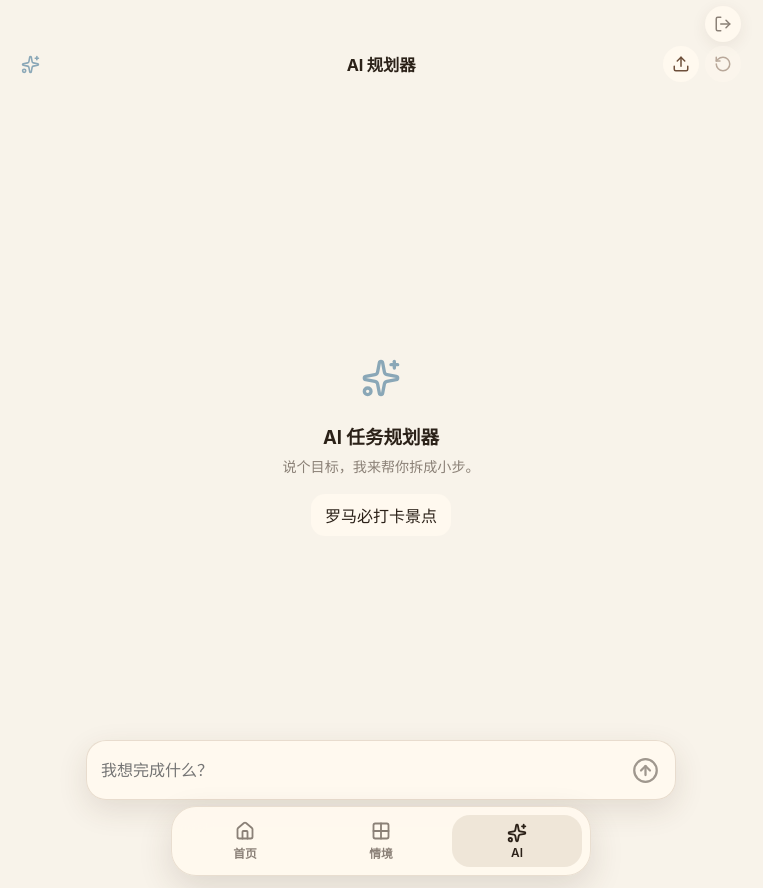
Scenario: AI planner page › accumulates deduplicated suggestions in one context and commits them together
The width and height of the screenshot is (763, 888).
Type "列证件" into the text box named "告诉 AI 你的目标" at (358, 770), box [101, 749, 616, 791]
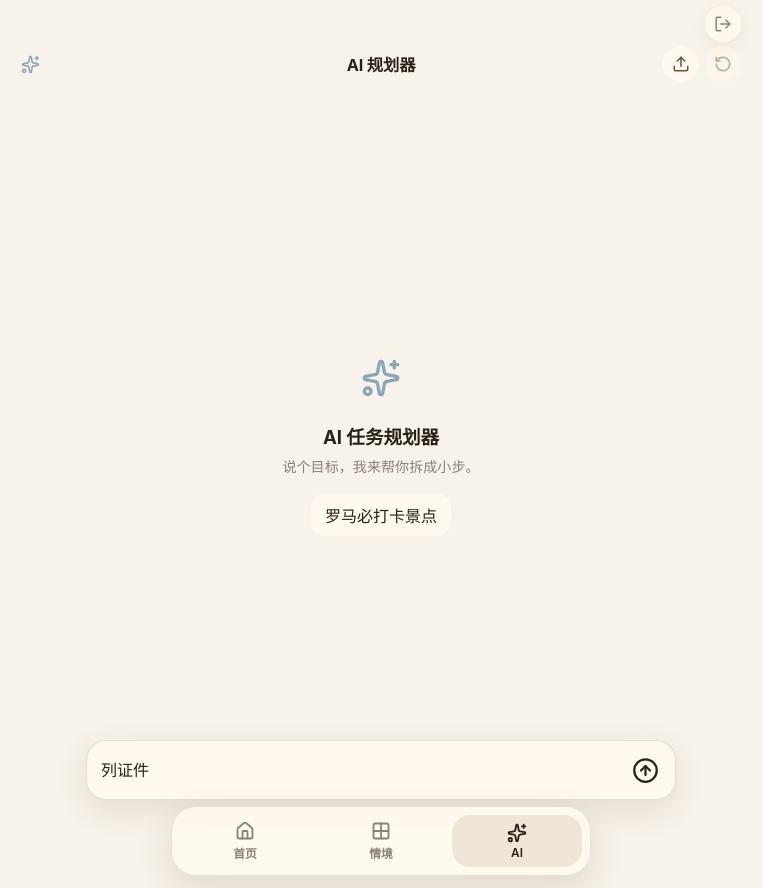
Click the button named "发送" at (645, 770), box [624, 749, 666, 791]
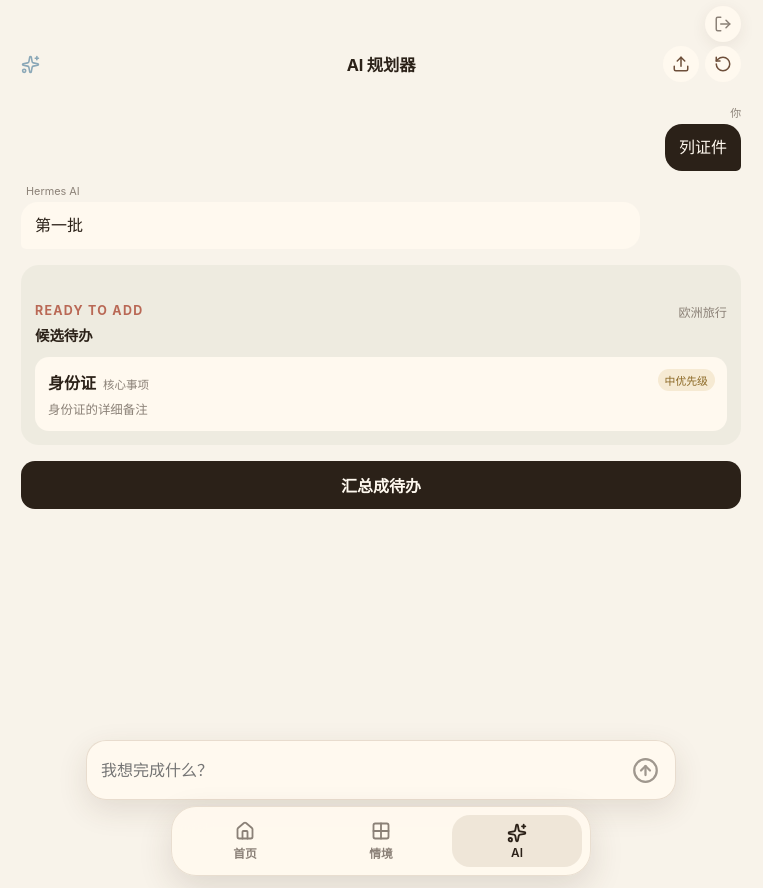
Expected: the text "第一批" is shown, [35, 215, 83, 235]
Type "再补充" into the text box named "告诉 AI 你的目标" at (358, 770), box [101, 749, 616, 791]
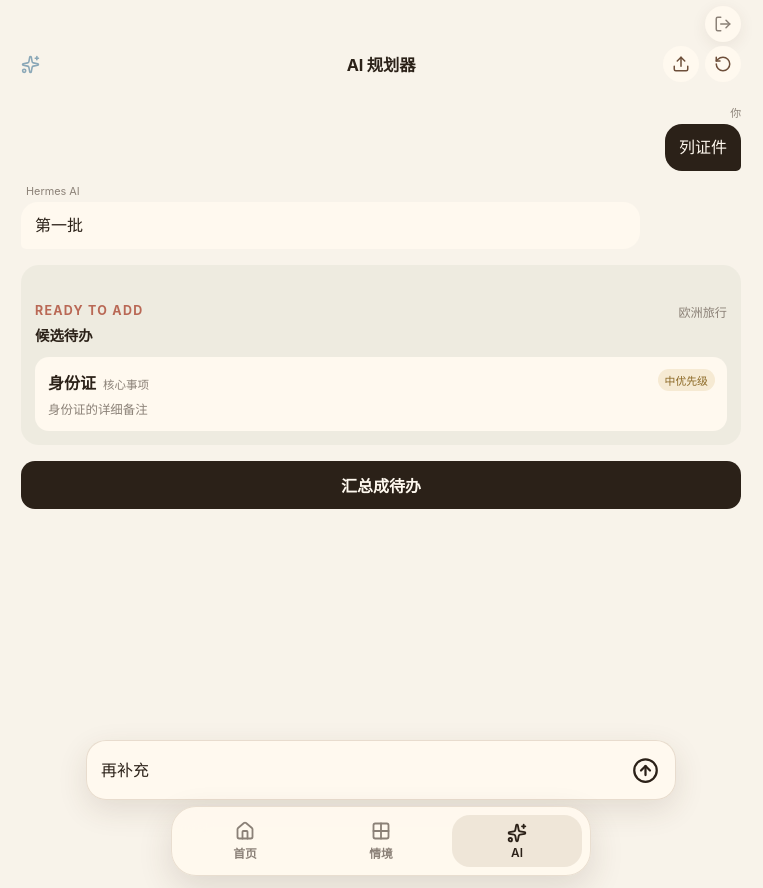
Click the button named "发送" at (645, 770), box [624, 749, 666, 791]
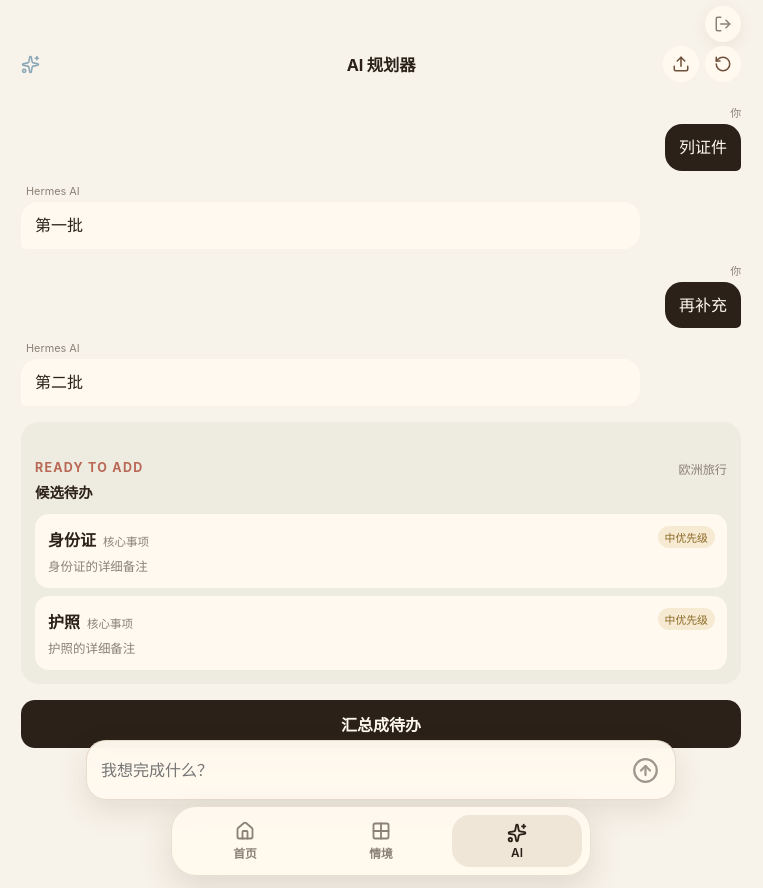
Expected: the text "第二批" is shown, [35, 372, 83, 392]
Expected: the number of list items with test id "ai-suggestion" is 2, [35, 514, 727, 588]; [35, 596, 727, 670]
Click the button "汇总成待办" at (381, 724), box [21, 700, 741, 748]
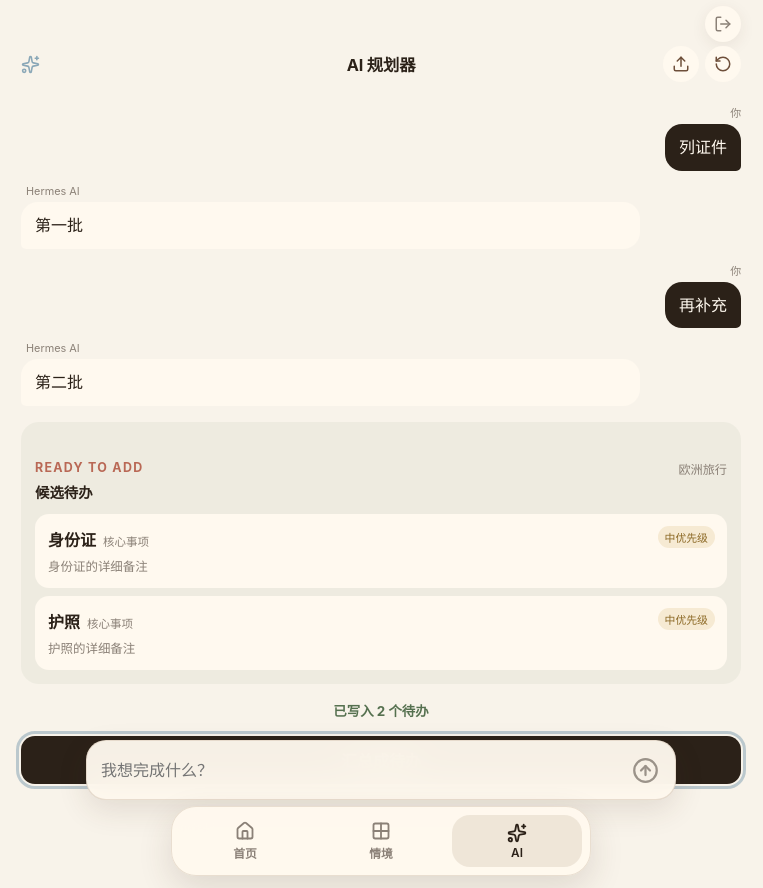
Expected: the text "已写入 2 个待办" is shown, [333, 703, 429, 719]
